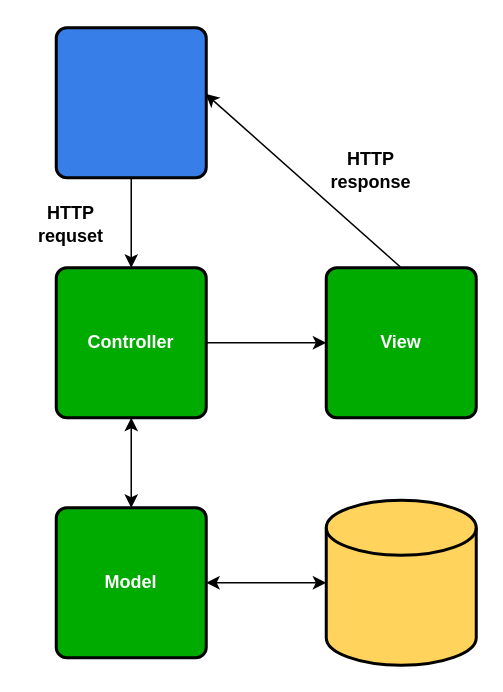
Image size: 503x692. Some labels were removed from this diagram. Here are the shapes that lost their labels. From the top down, the box of each, then its label:
(54, 26, 207, 178): Browser
(324, 498, 477, 666): Database
